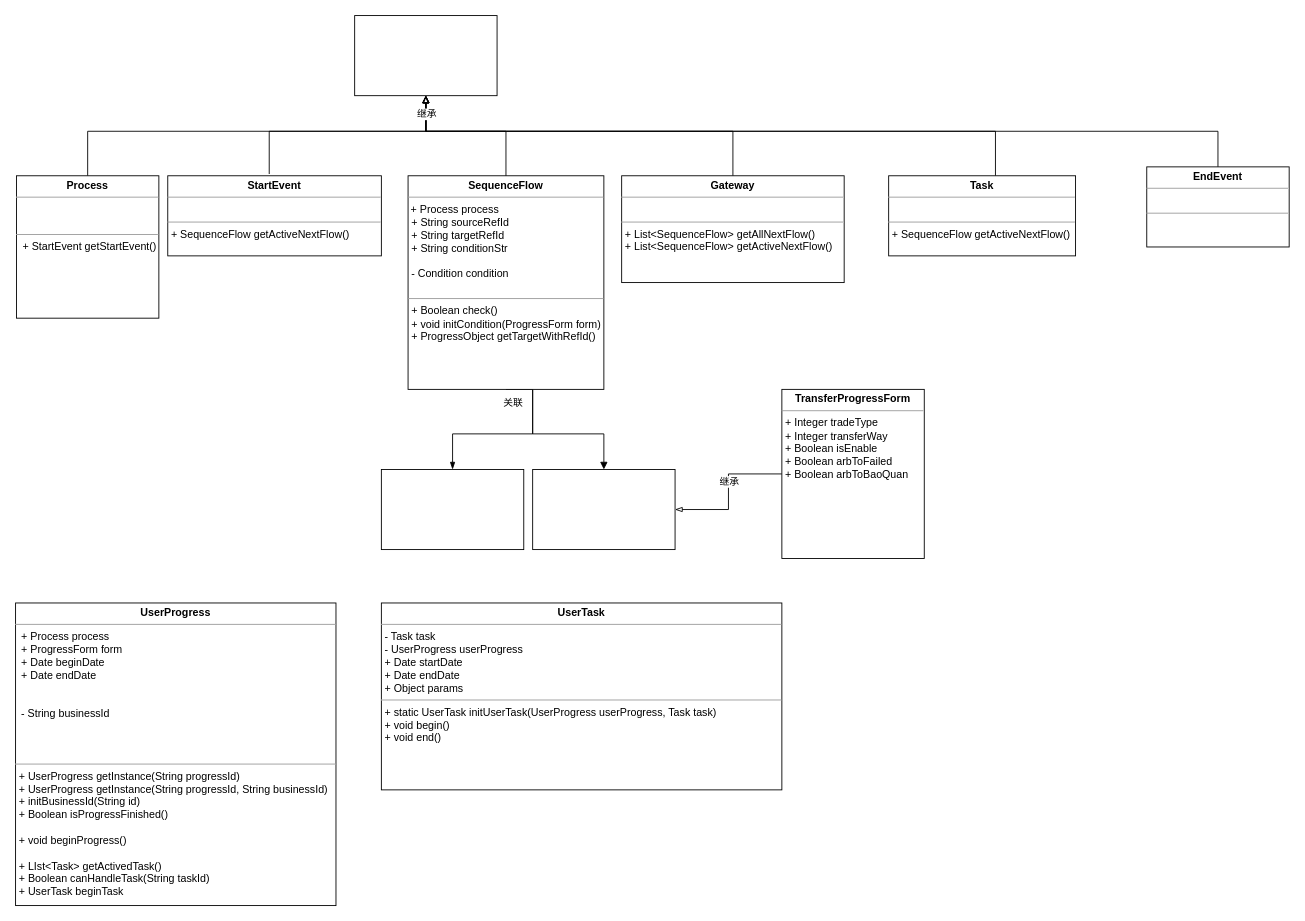
Image size: 1305x921. Some labels were removed from this diagram. The shapes that lost their labels are listed below. From the top down, each one's centre as x and y in pixels, then its label:
pixel 425 55: ProgressObject + String Id:unique + String name
pixel 452 509: Condition - String conditionStr - ConditionForm form + Boolean check()
pixel 603 509: ProgressForm
